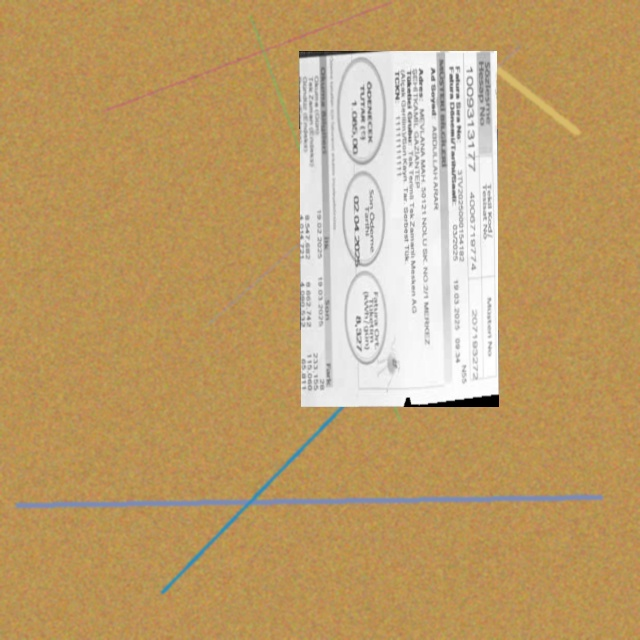electricity-bill: (298, 50, 498, 406)
